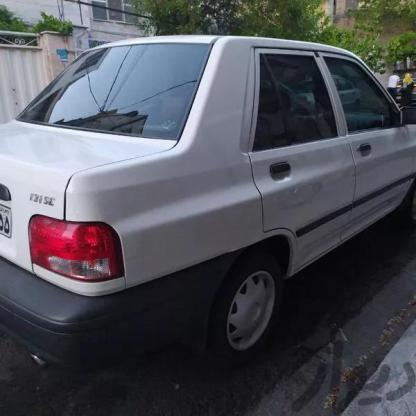Car: (0, 26, 416, 365)
